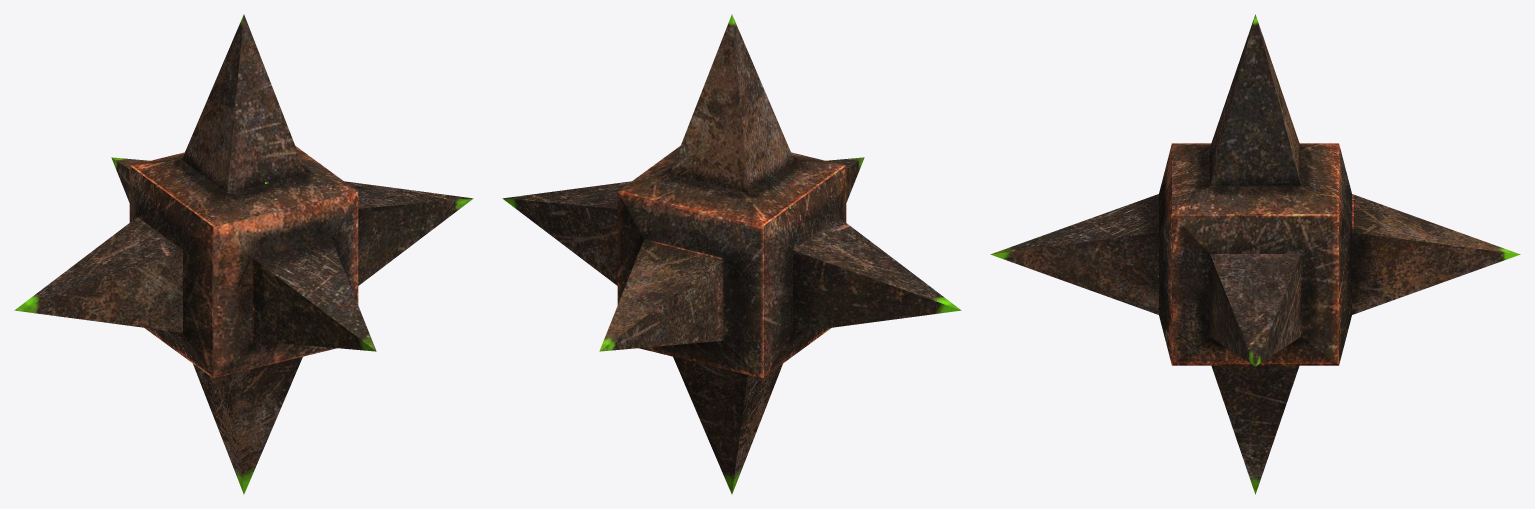
File: Pinches.fbx
The picture shows the model from 3 angles, left to right: view 1: azimuth 30°, elevation 25°; view 2: azimuth 150°, elevation 25°; view 3: azimuth 270°, elevation 25°; orthographic projection.
Visible parts, largest first — view 1: Pinche; view 2: Pinche; view 3: Pinche.
Boxes of the visible parts, x1,y1,x2,y2 form: Pinche: [14, 14, 473, 494]; Pinche: [502, 14, 961, 494]; Pinche: [990, 14, 1520, 494].
Bounding box in the file's own units: 806 × 806 × 806.
Materials: 1 (1 with a texture image).
